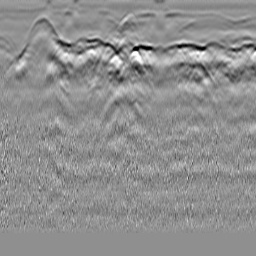cavity: (119, 11, 138, 35)
